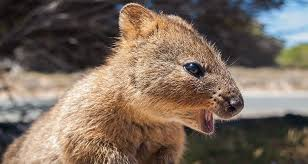quokka: (17, 4, 249, 164)
